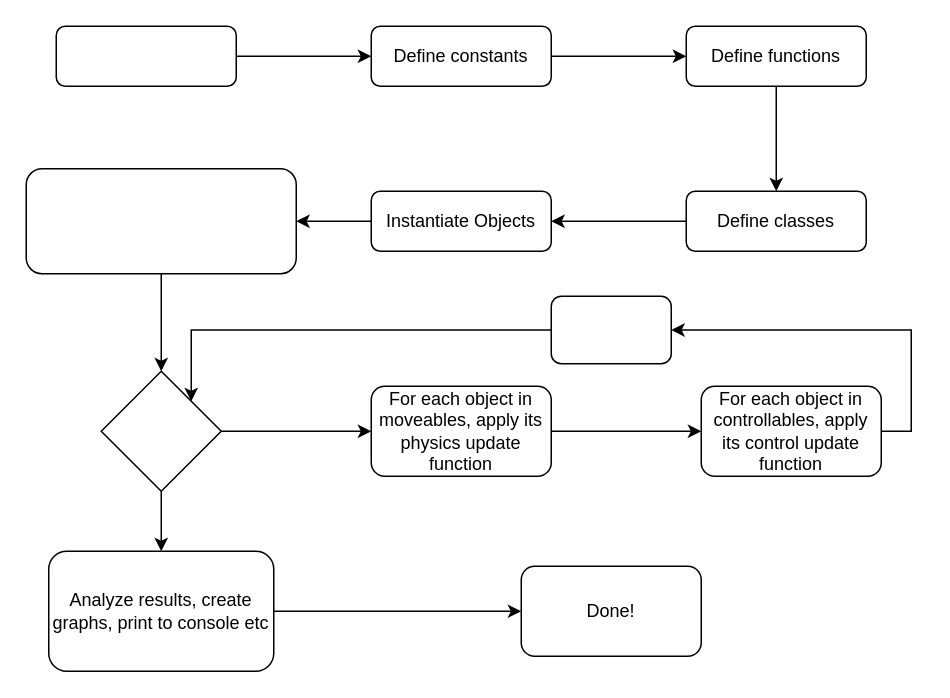
The diagram is 950 pixels wide and 698 high, and some of its shapes have lost their labels. Each missing label, with the box of its shape:
Imports: (55, 25, 236, 86)
Setup relationships (collidables, moveables, controllables): (25, 167, 296, 274)
t += dt: (550, 295, 671, 364)
t < endTime: (100, 370, 221, 491)
